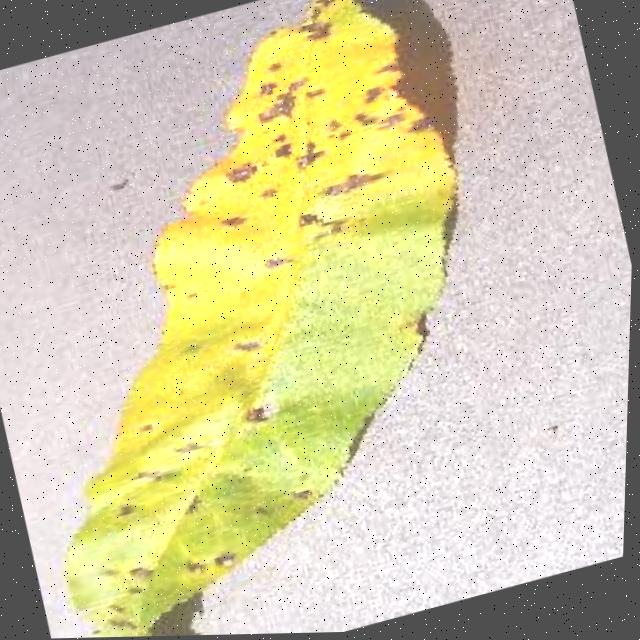Bacterial_spot: (237, 36, 356, 194), (312, 48, 440, 164), (131, 424, 224, 511), (96, 557, 168, 637), (309, 153, 403, 210), (291, 195, 357, 255), (215, 141, 275, 195), (226, 314, 286, 361), (171, 321, 225, 369), (212, 202, 266, 245), (101, 486, 145, 533), (172, 272, 220, 315), (255, 240, 302, 283), (248, 182, 288, 216)
